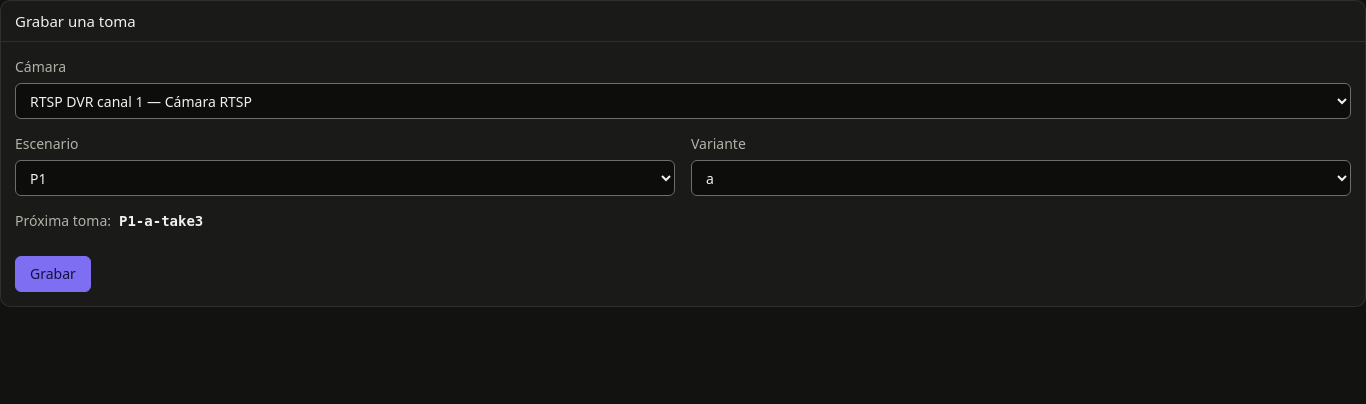
Test: RecordPanel › avisa cuando la toma se corto antes de los 30 s
Check: the text "P1-a-take3" is shown, box x1=119 y1=211 x2=203 y2=232
Click the button "Grabar": (53, 274) x1=15 y1=256 x2=91 y2=292
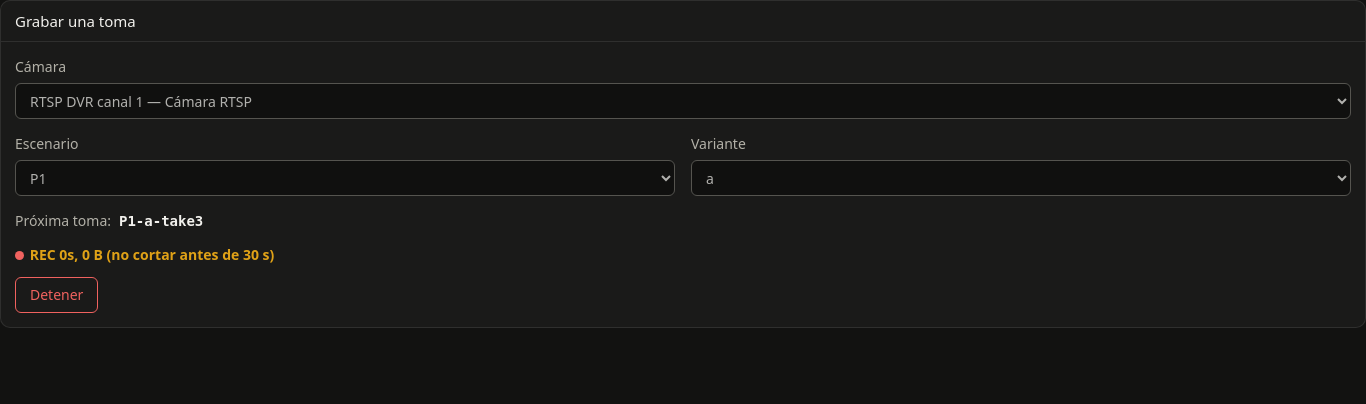
Check: the button "Detener" is shown
Click the button "Detener": (57, 295) x1=15 y1=277 x2=98 y2=313
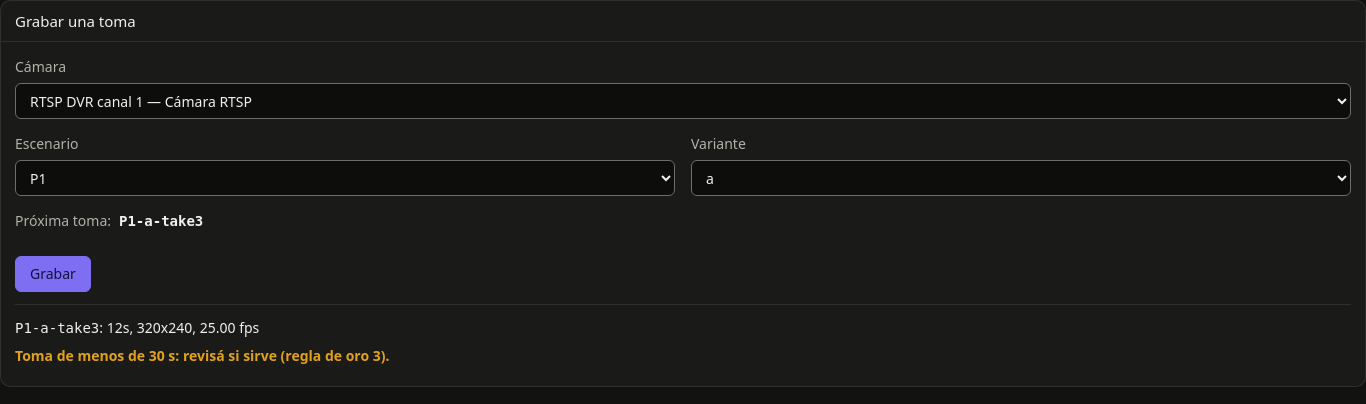
Check: the text "Toma de menos de 30 s: revisá si sirve (regla de oro 3)." is shown, box x1=15 y1=346 x2=390 y2=365
